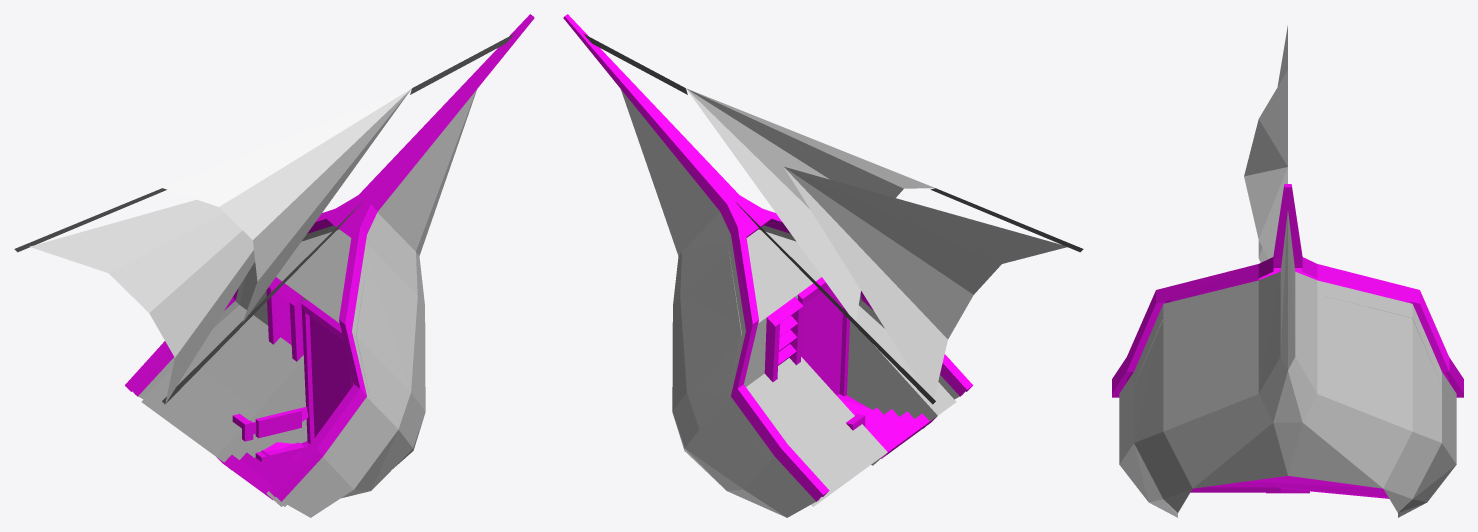
Rendered from sinkingshipfront.obj.
3 views of the same model, side by side, from view 1: azimuth 30°, elevation 25°; view 2: azimuth 150°, elevation 25°; view 3: azimuth 270°, elevation 25° (orthographic). The views are drawn at different scales.
Parts seen in each view (by area): view 1: sinkingshipfront_back, sinkingshipfront_front; view 2: sinkingshipfront_back, sinkingshipfront_front; view 3: sinkingshipfront_back, sinkingshipfront_front.
Part boxes in pixels (<box>): sinkingshipfront_back: <box>14,33,514,517</box>; sinkingshipfront_front: <box>125,14,534,501</box>; sinkingshipfront_back: <box>583,33,1083,517</box>; sinkingshipfront_front: <box>563,14,972,501</box>; sinkingshipfront_back: <box>1119,25,1456,517</box>; sinkingshipfront_front: <box>1112,184,1463,498</box>.
Bounding box in the file's own units: 7.67 × 5.35 × 3.84.
